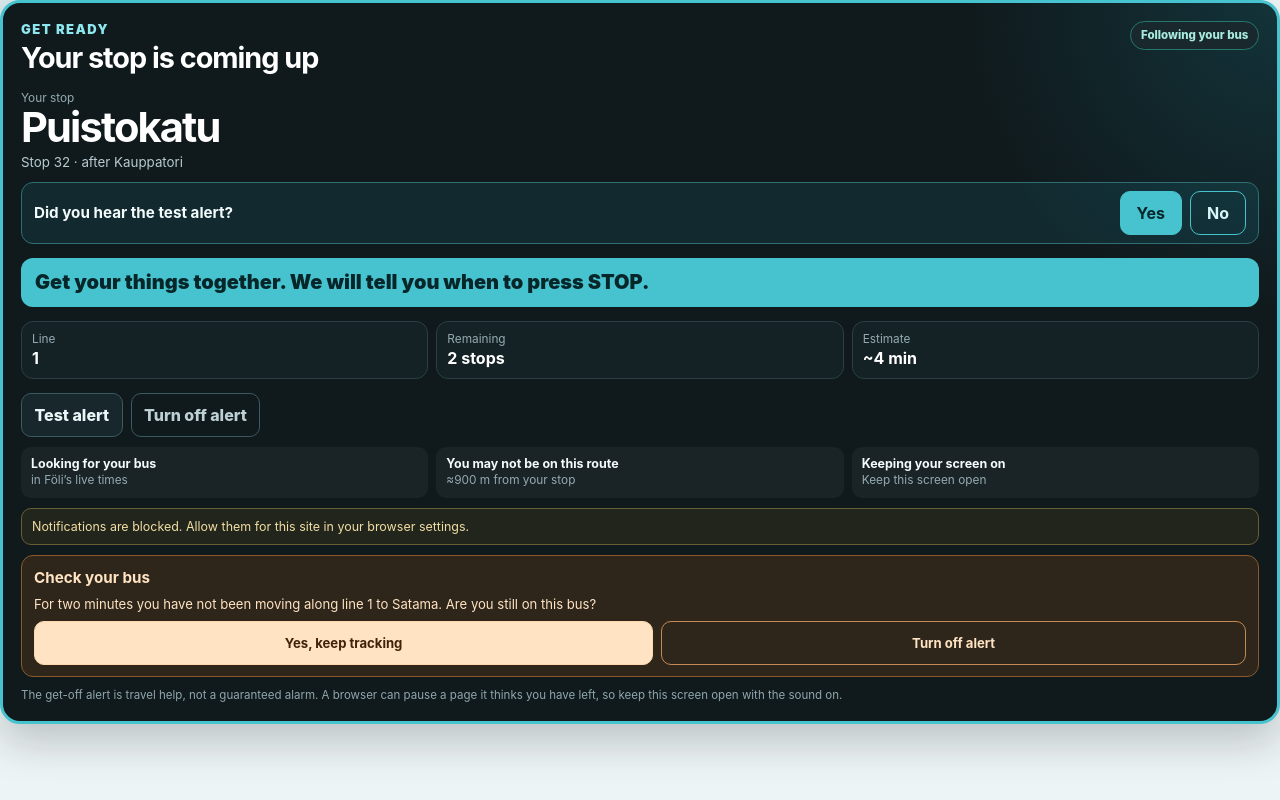
Scenario: turns the wrong-bus warning into the two answers it is asking for
The image size is (1280, 800).
Expected: the message that starts with "Check your bus" is shown, top-left (34, 568), bottom-right (150, 587)
Expected: the message that starts with "Check your bus" shows "line 1", top-left (34, 596), bottom-right (596, 612)
Click the button "Yes, keep tracking": (344, 643) top-left (34, 621), bottom-right (653, 665)
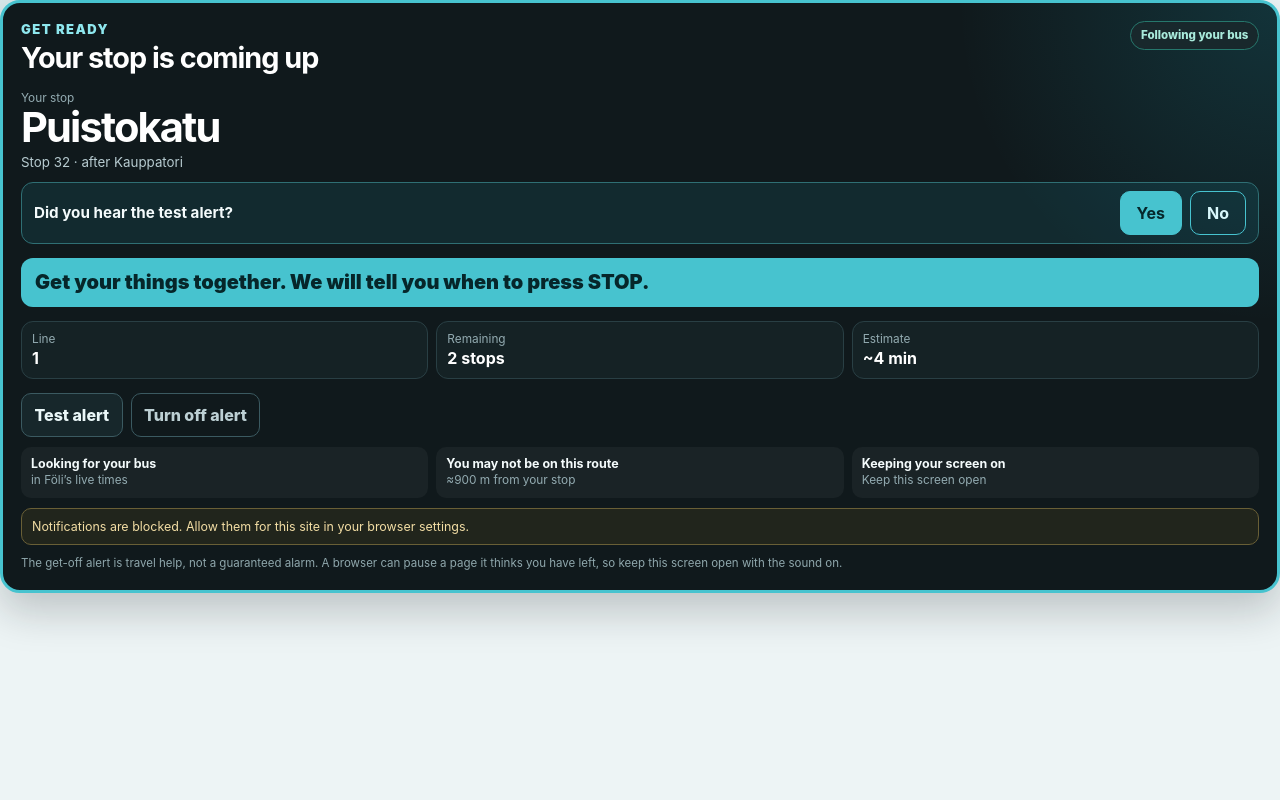
Expected: the text "Check your bus" is gone
